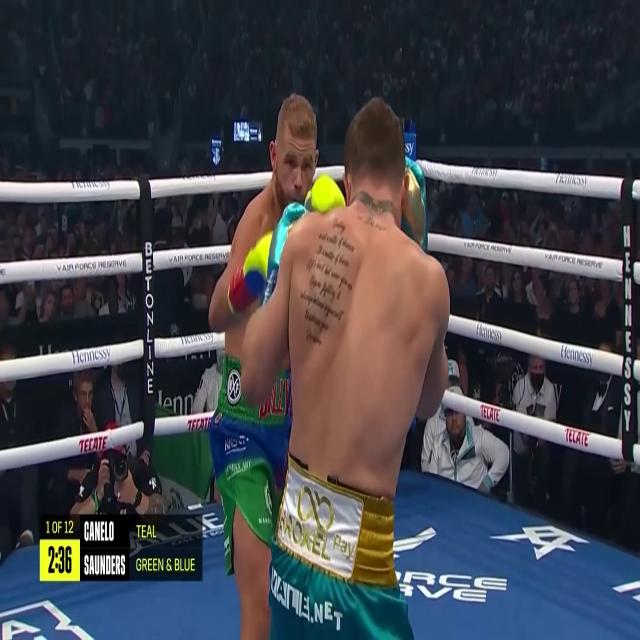boxer_1: (209, 92, 318, 358)
boxer_2: (242, 97, 450, 499)
gloves_1: (228, 231, 272, 311), (306, 174, 346, 212)
gloves_2: (262, 201, 306, 304), (402, 156, 428, 249)
